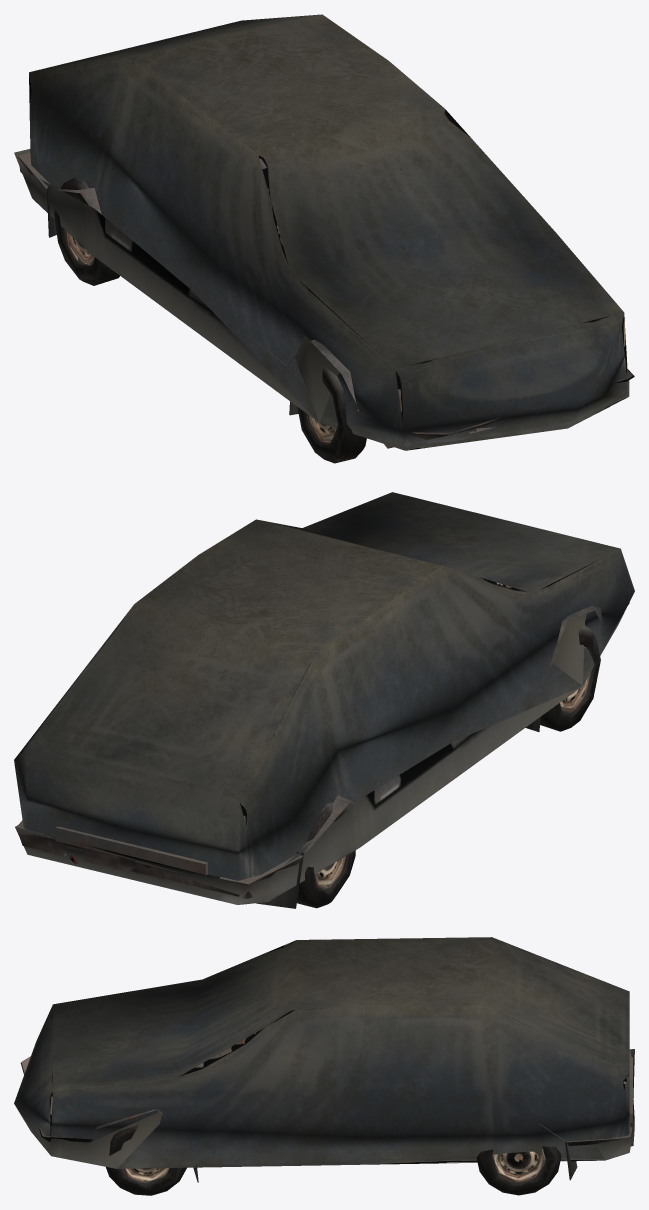
File: covered_car_opt.gltf
The picture shows the model from 3 angles, top to bottom: view 1: azimuth 30°, elevation 25°; view 2: azimuth 150°, elevation 25°; view 3: azimuth 270°, elevation 25°; orthographic projection. The views are drawn at different scales.
Parts seen in each view (by area): view 1: covered_car, covered_car_wheel_02, covered_car_wheel_03; view 2: covered_car, covered_car_wheel_03, covered_car_wheel_02; view 3: covered_car, covered_car_wheel_04, covered_car_wheel_01.
Boxes of the visible parts, box(x1,y1,x2,y2) form: covered_car: box(14, 14, 634, 450); covered_car_wheel_02: box(297, 367, 366, 463); covered_car_wheel_03: box(54, 178, 119, 285); covered_car: box(14, 492, 634, 908); covered_car_wheel_03: box(297, 802, 355, 908); covered_car_wheel_02: box(540, 625, 600, 731); covered_car: box(14, 937, 634, 1182); covered_car_wheel_04: box(476, 1146, 561, 1195); covered_car_wheel_01: box(106, 1125, 186, 1195).
Size of the model in its own units: 1.74 by 1.37 by 4.3.
1 material, 1 textured.
